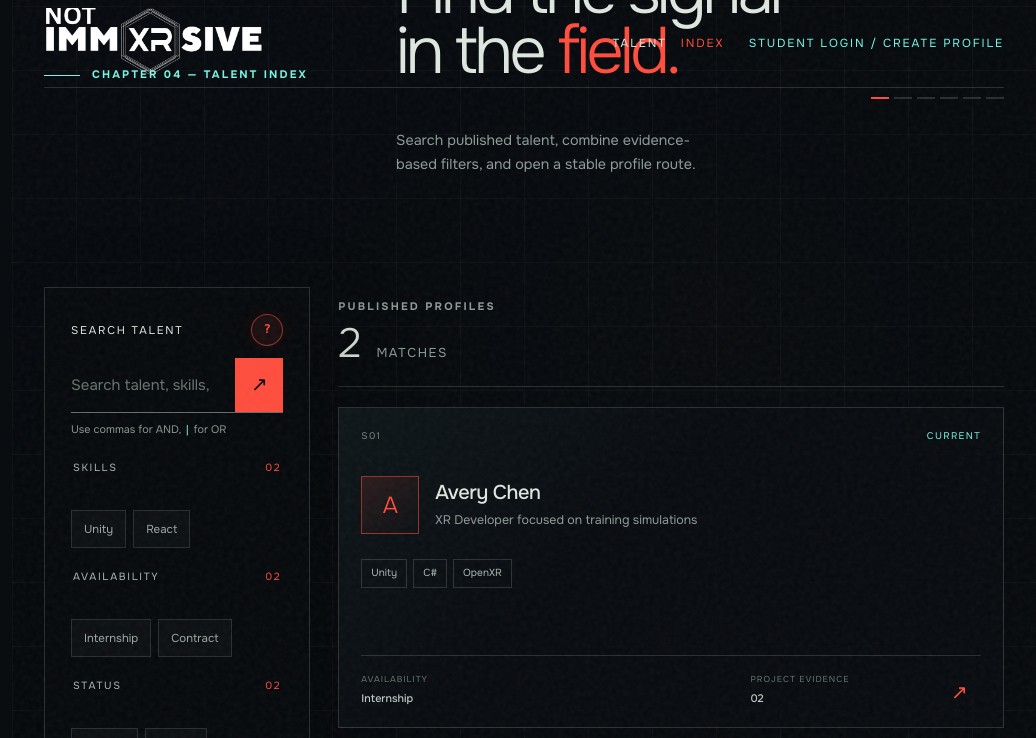
Test: talent directory › shows malformed search feedback inline and preserves valid results
(page scrolled)
Check: the heading "Avery Chen" is shown, box [435,480,540,505]
In the search field labelled "Search talent": (153, 385) [71,358,235,412], type "React,"
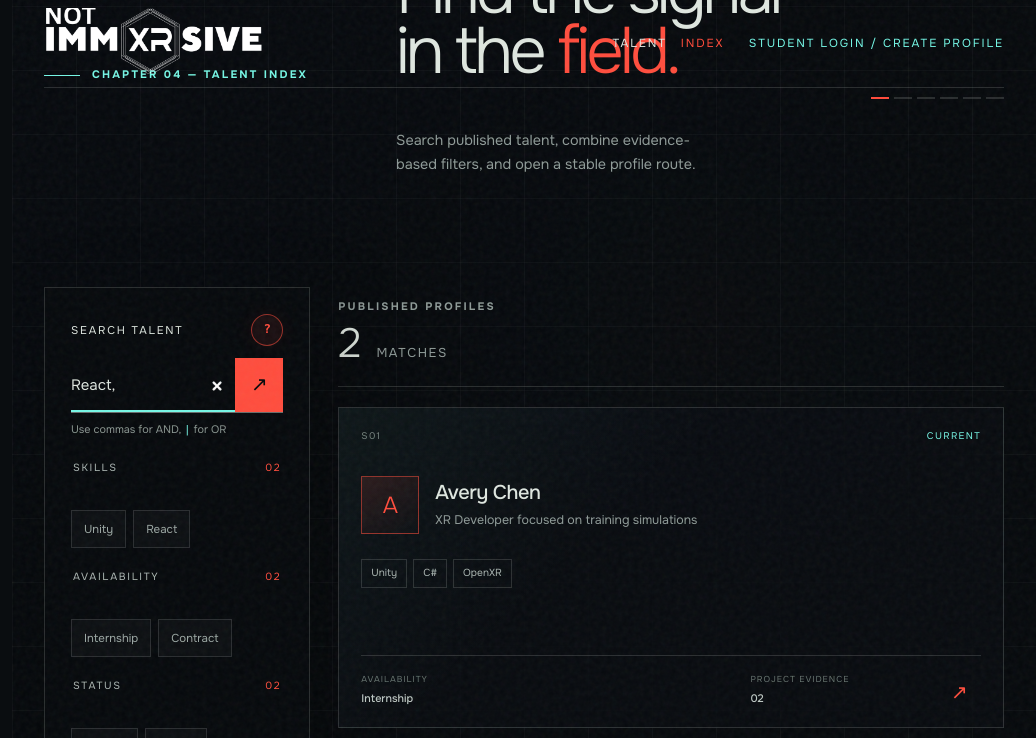
Click the button named "submit talent search": (259, 385) [235,358,283,412]
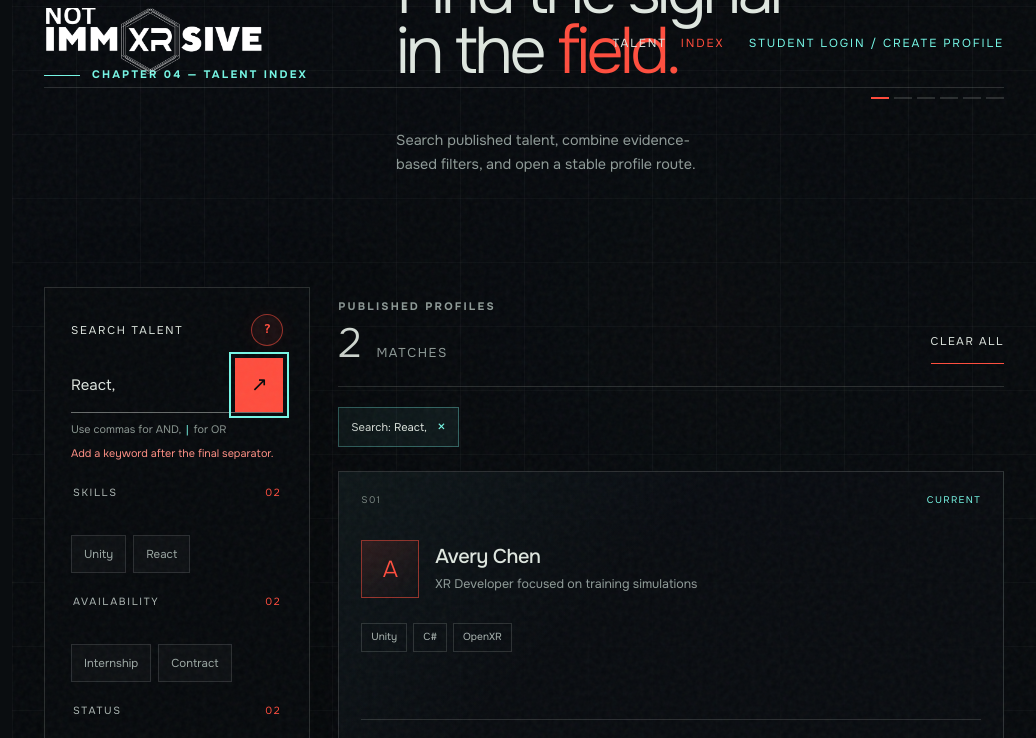
Check: the heading "Avery Chen" is shown, box [435,544,540,569]
Check: the message reads "Add a keyword after the final separator.", box [71,446,274,460]
